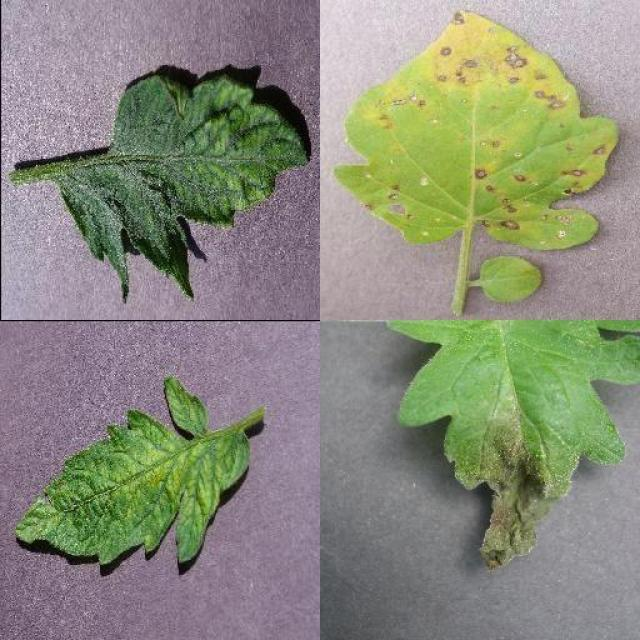Late Blight: (380, 320, 640, 572)
Septoria: (338, 9, 622, 252)
